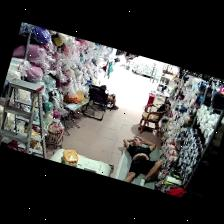person: (123, 138, 160, 185), (107, 95, 117, 110), (125, 52, 129, 60)
